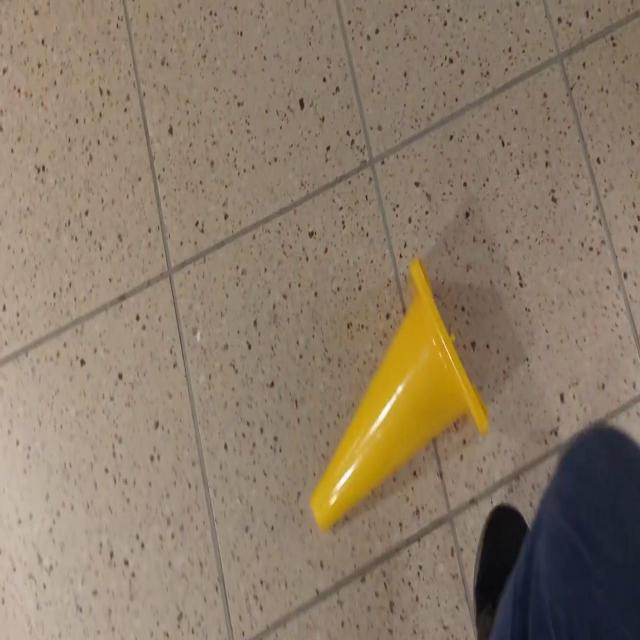frc_cone: (309, 255, 490, 532)
